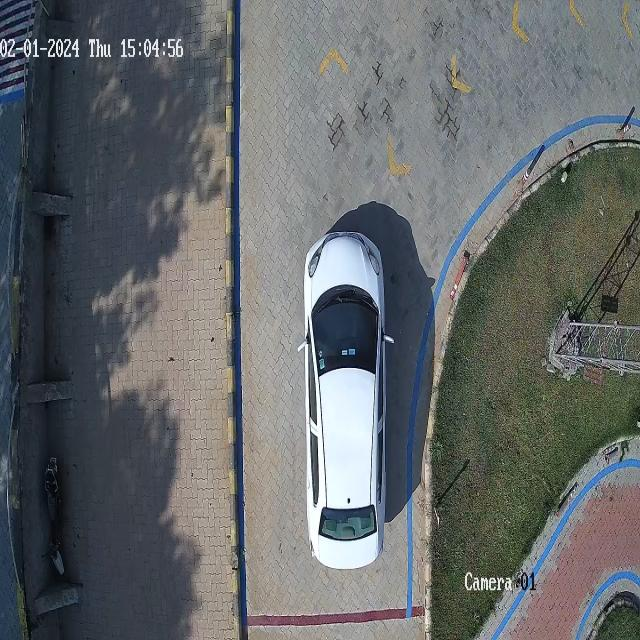car: (302, 233, 385, 569)
